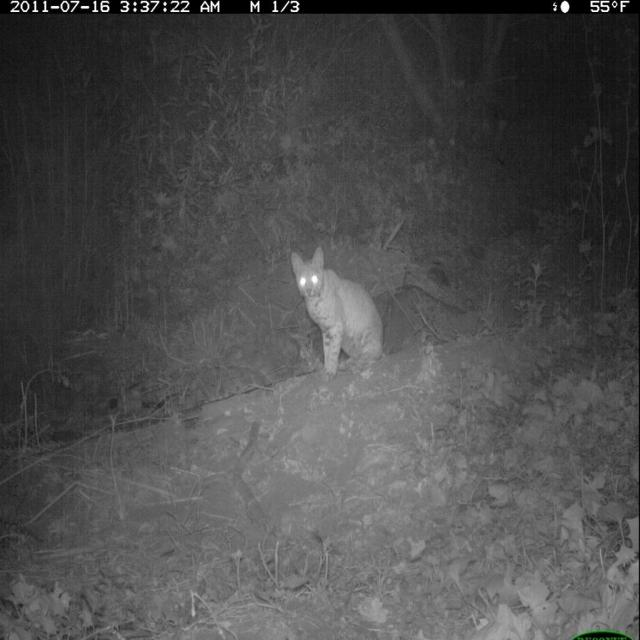bobcat: (289, 242, 389, 391)
